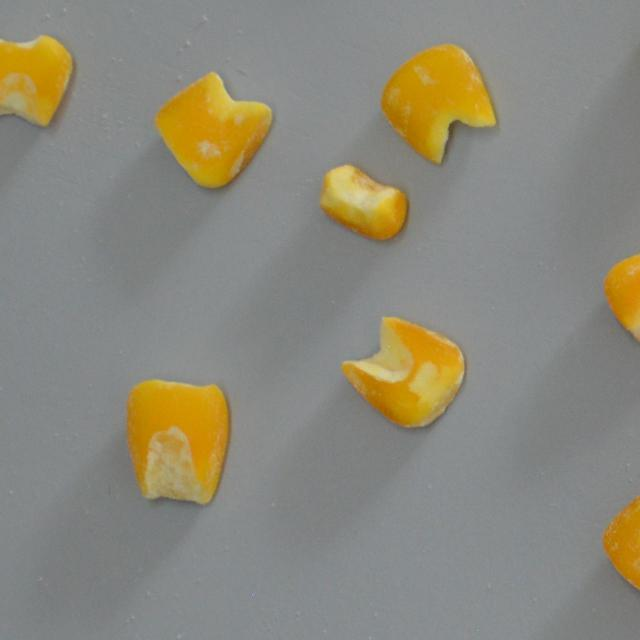no_canjicado: (124, 377, 228, 504), (0, 34, 73, 127), (602, 252, 640, 342)
no_desgerminado: (320, 164, 406, 240)
pelicula: (380, 42, 497, 166), (341, 314, 466, 428), (154, 70, 272, 188), (604, 478, 640, 600)
